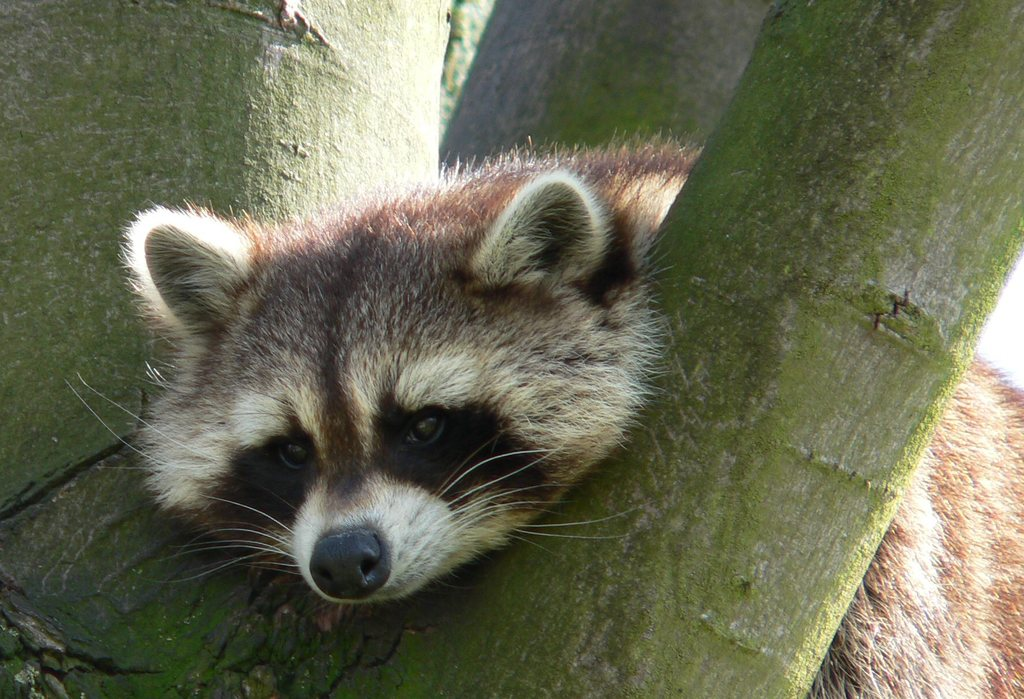raccoon: (118, 140, 707, 602)
